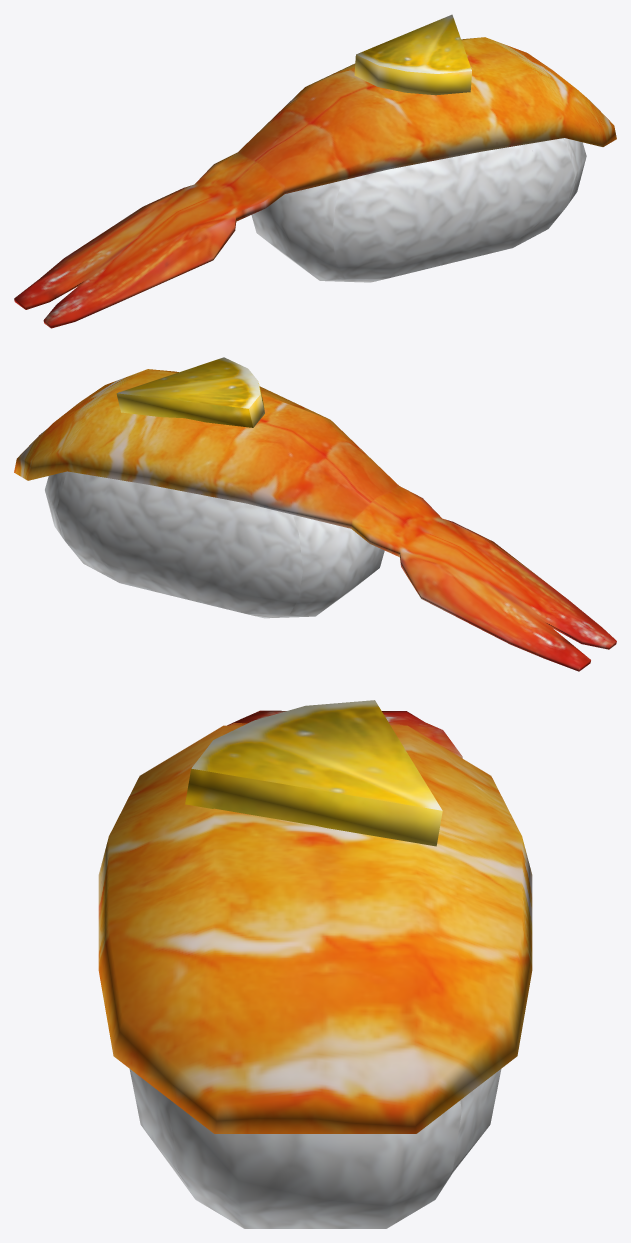
Rendered from shrimp_3.fbx.
3 renders of one model, top to bottom at view 1: azimuth 30°, elevation 25°; view 2: azimuth 150°, elevation 25°; view 3: azimuth 270°, elevation 25°, orthographic. The views are drawn at different scales.
Visible parts, largest first — view 1: shrimp_3; view 2: shrimp_3; view 3: shrimp_3.
Boxes of the visible parts, x1=… form: shrimp_3: x1=14, y1=14, x2=616, y2=328; shrimp_3: x1=14, y1=357, x2=616, y2=671; shrimp_3: x1=98, y1=700, x2=532, y2=1228.
Size of the model in its own units: 10.68 by 3.66 by 3.62.
